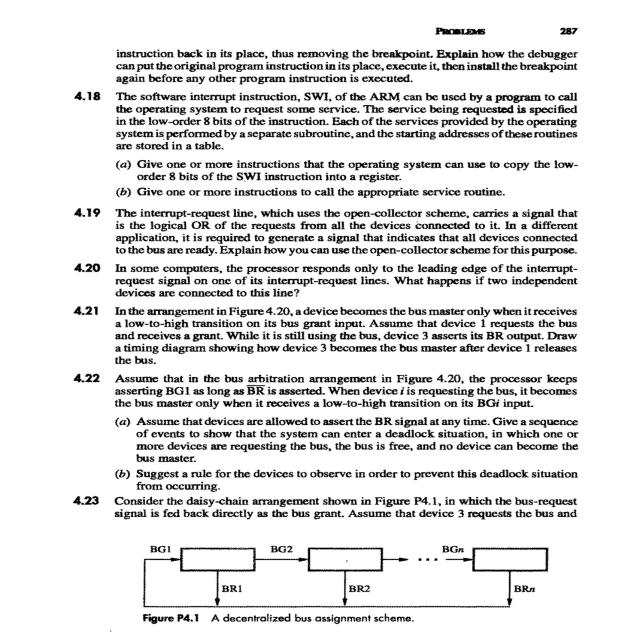diagram: (98, 531, 640, 615)
